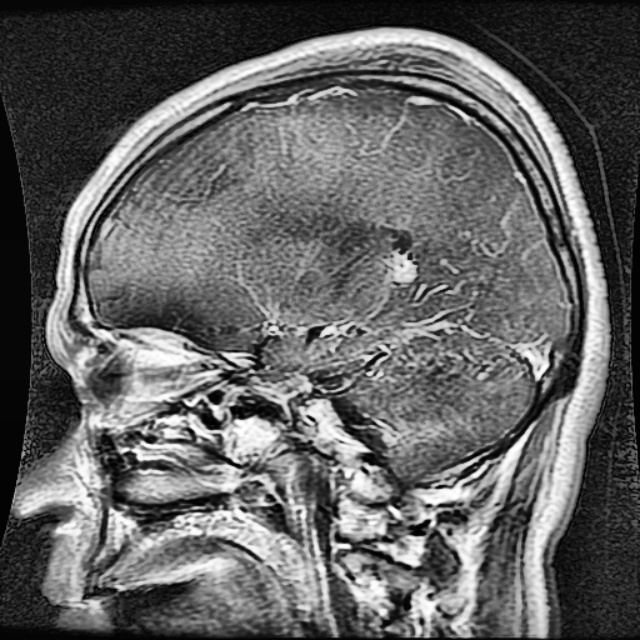Meningioma: (390, 250, 415, 282)
